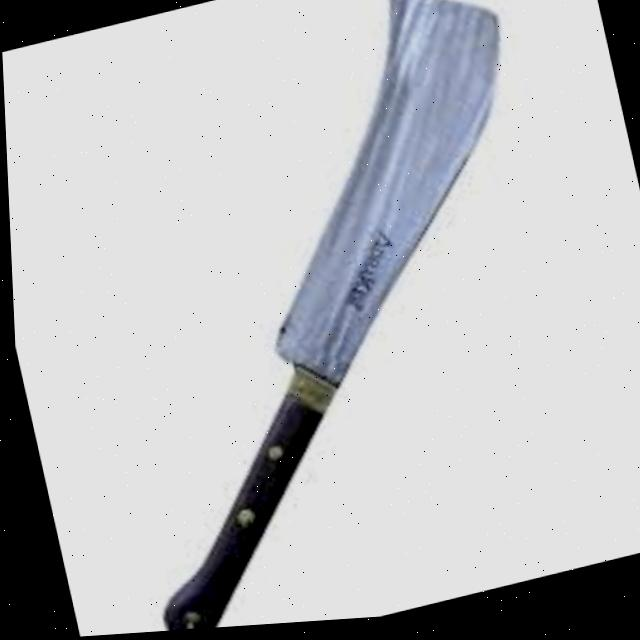Knife: (35, 0, 611, 638)
